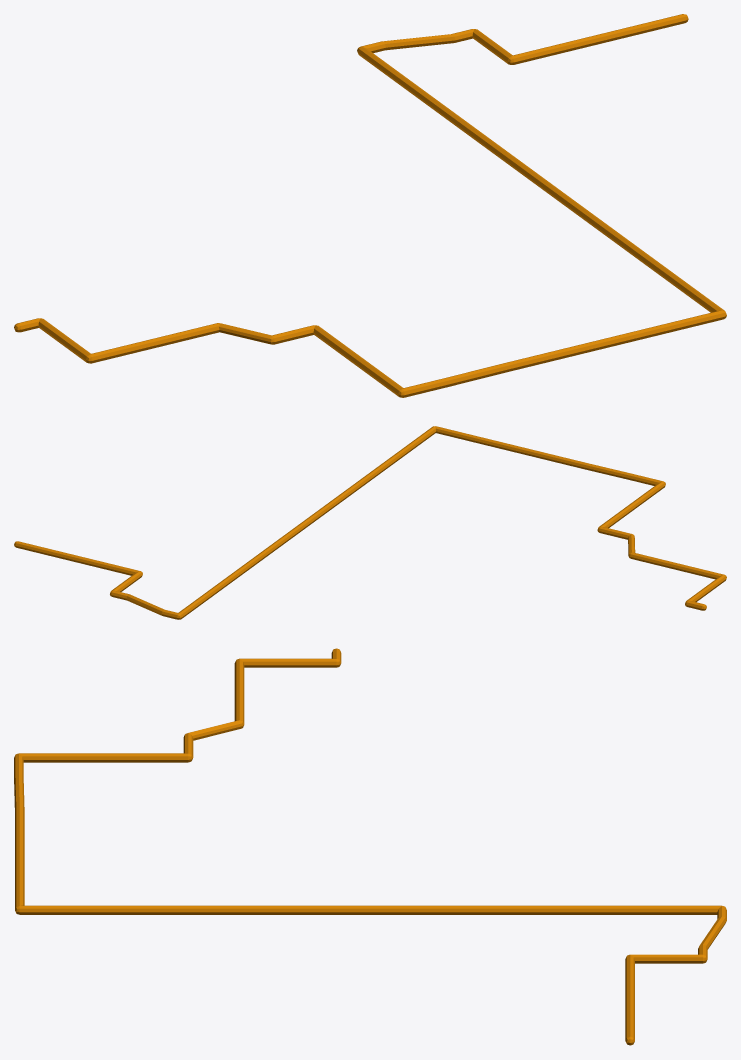
3 renders of one model, top to bottom at view 1: azimuth 30°, elevation 25°; view 2: azimuth 150°, elevation 25°; view 3: azimuth 270°, elevation 25°, orthographic. The views are drawn at different scales.
Size of the model in its own units: 1915 by 20 by 1472.
